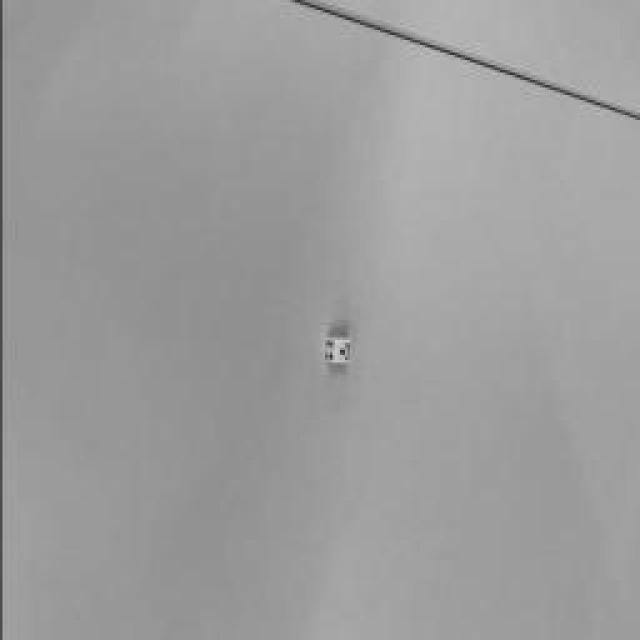dice_1: (334, 338, 348, 364)
